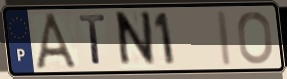1: (153, 10, 177, 68)
A: (33, 11, 82, 71)
I: (215, 8, 235, 68)
N: (116, 9, 157, 71)
O: (236, 10, 275, 66)
T: (77, 13, 108, 68)
